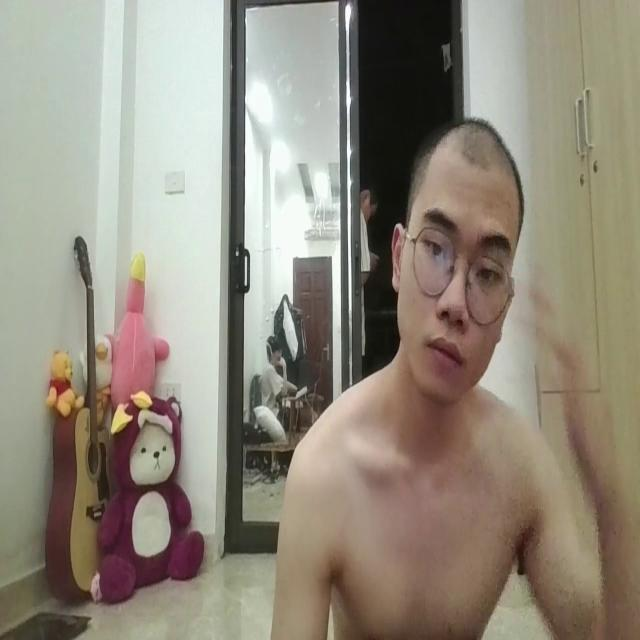extra_person: (343, 167, 393, 382), (244, 320, 303, 485)
student: (271, 104, 577, 640)
